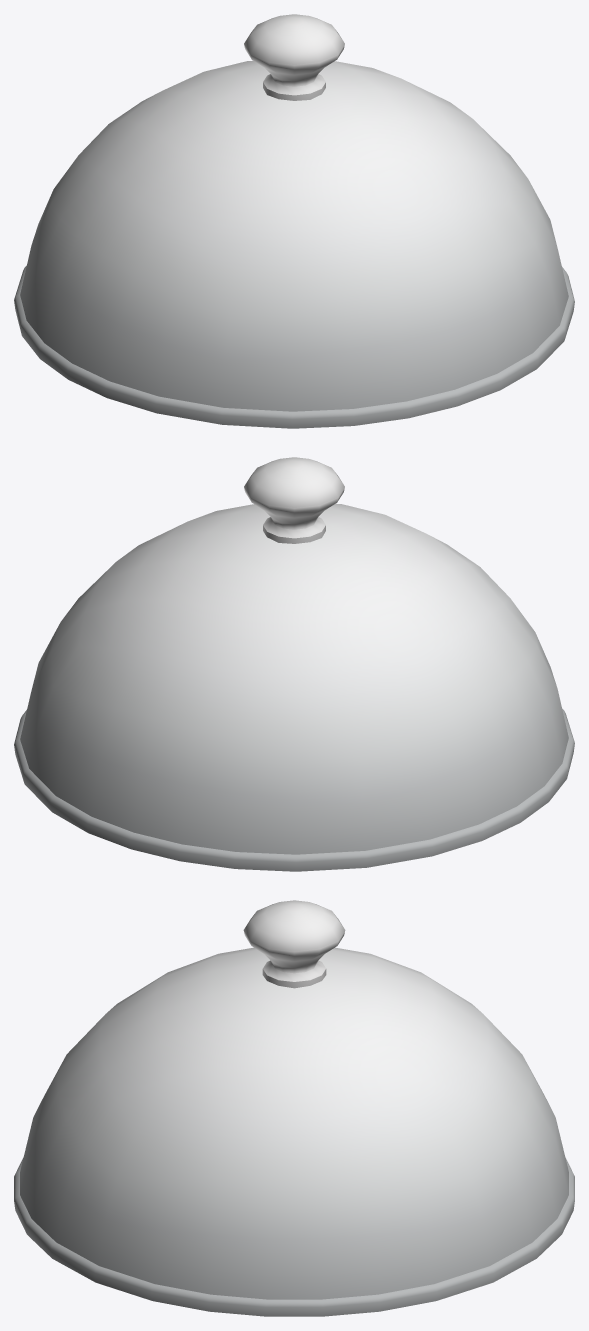
File: serving_lid_001.fbx
3 views of the same model, one above another, from view 1: azimuth 30°, elevation 25°; view 2: azimuth 150°, elevation 25°; view 3: azimuth 270°, elevation 25° (orthographic).
Visible parts, largest first — view 1: serving_lid_001; view 2: serving_lid_001; view 3: serving_lid_001.
Part boxes in pixels (left/top/right/bottom): serving_lid_001: left=14, top=14, right=574, bottom=428; serving_lid_001: left=14, top=457, right=574, bottom=871; serving_lid_001: left=14, top=900, right=574, bottom=1316.
Size of the model in its own units: 30.62 by 30.62 by 17.62.
